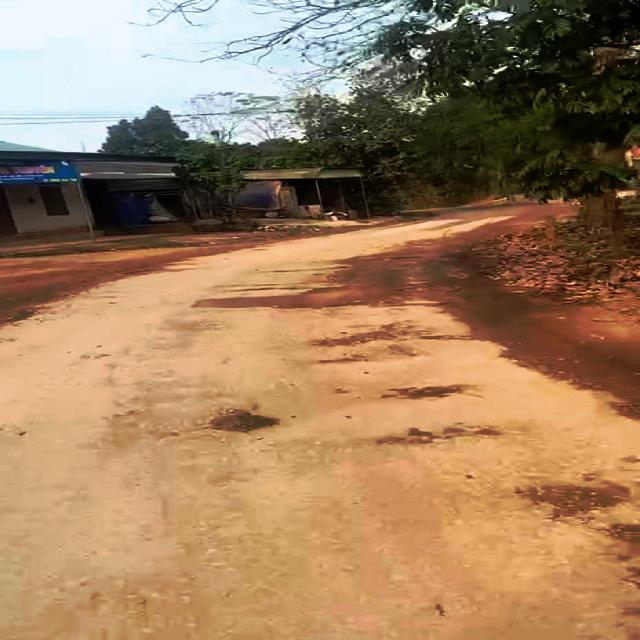pothole: (190, 284, 382, 314), (523, 480, 626, 523), (199, 410, 288, 436), (313, 328, 393, 346)
